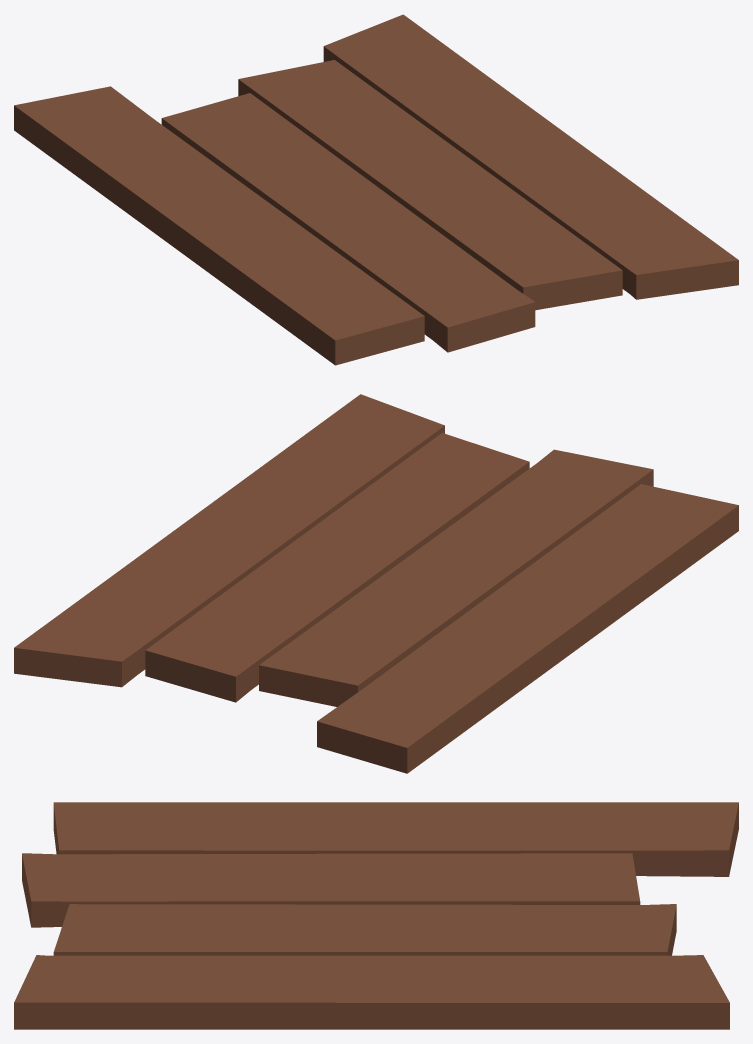
Rendered from LPWarPack_PlankBoards2.fbx.
The picture shows the model from 3 angles, top to bottom: view 1: azimuth 30°, elevation 25°; view 2: azimuth 150°, elevation 25°; view 3: azimuth 270°, elevation 25°; orthographic projection. The views are drawn at different scales.
Parts seen in each view (by area): view 1: PlankBoards2; view 2: PlankBoards2; view 3: PlankBoards2.
Part boxes in pixels (left/top/right/bottom): PlankBoards2: left=14, top=14, right=738, bottom=365; PlankBoards2: left=14, top=394, right=738, bottom=773; PlankBoards2: left=14, top=802, right=738, bottom=1029.
Size of the model in its own units: 84.21 by 5.24 by 129.
